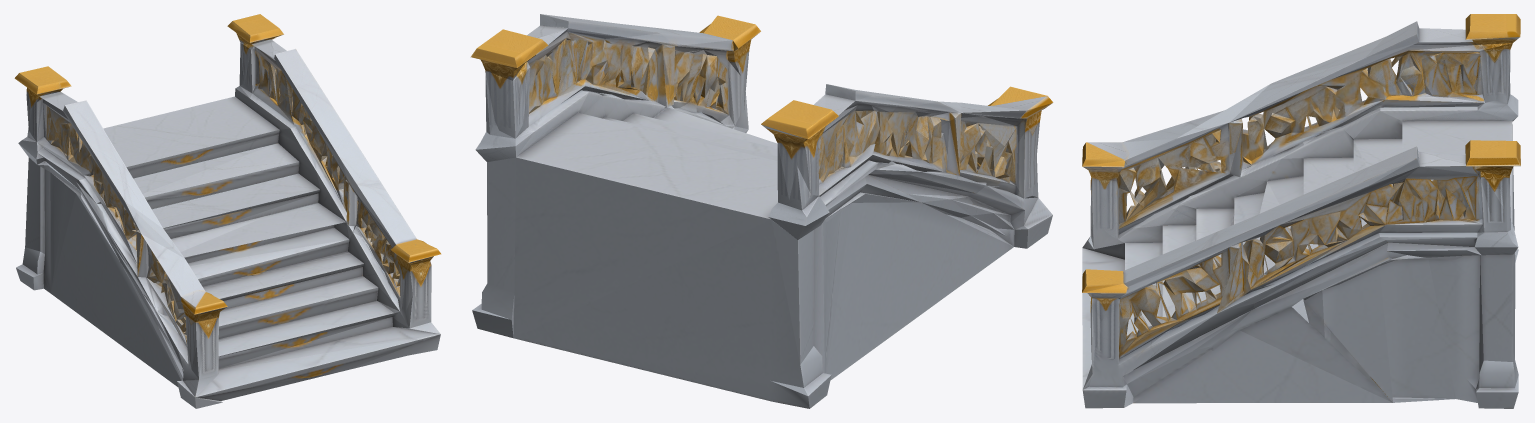
File: stairs.glb
3 renders of one model, left to right at view 1: azimuth 30°, elevation 25°; view 2: azimuth 150°, elevation 25°; view 3: azimuth 270°, elevation 25°, orthographic. The views are drawn at different scales.
Size of the model in its own units: 1.5 by 1.2 by 1.89.
1 material, 1 textured.
